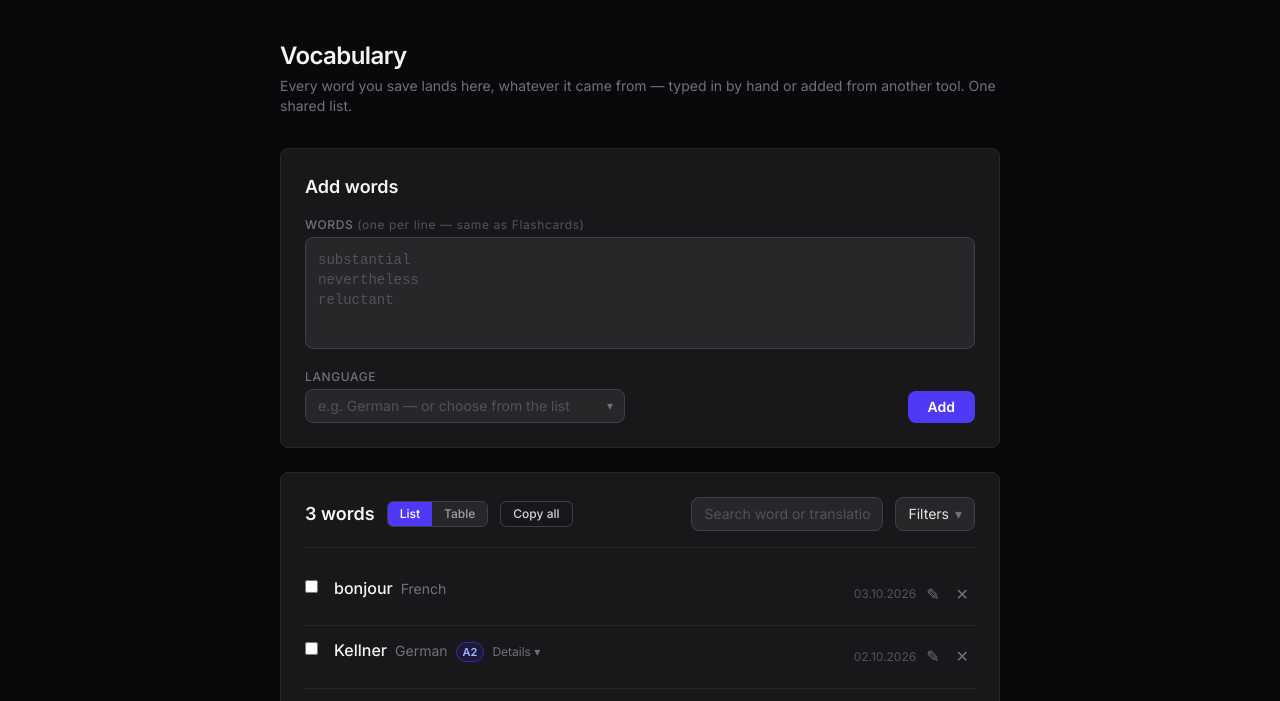
Scenario: deleting several words at once › keeps the selection when it fails, and says so in the window
The image size is (1280, 701).
Click the checkbox titled "Select" next to "bonjour": (312, 586) x1=305 y1=580 x2=318 y2=593
(page scrolled)
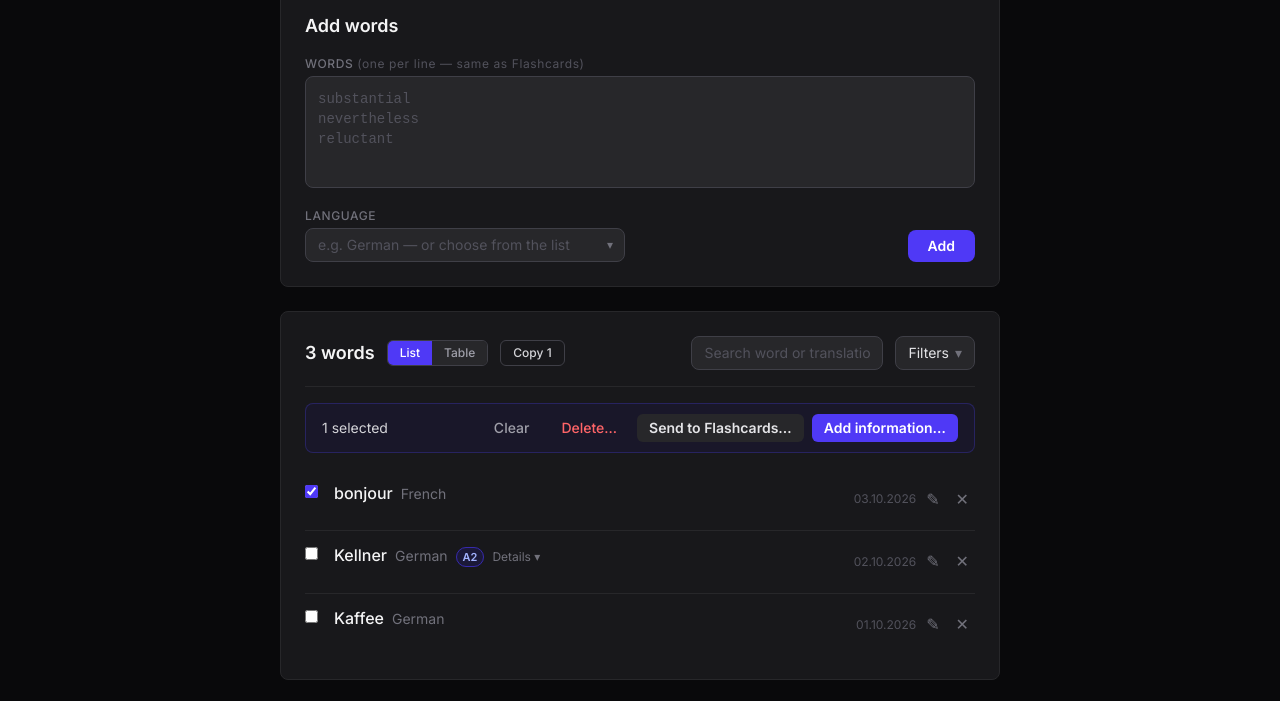
Click the checkbox titled "Select" next to "Kellner": (312, 554) x1=305 y1=547 x2=318 y2=560
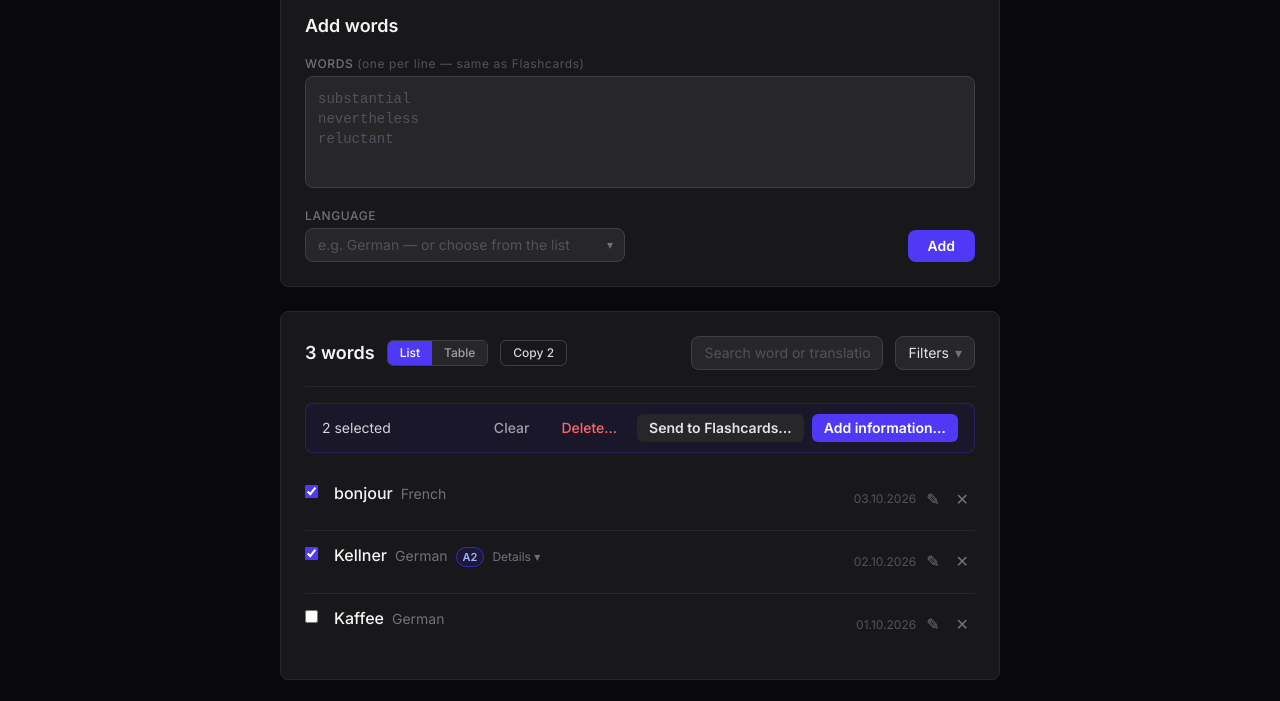
Click the button "Delete…": (589, 428) x1=549 y1=414 x2=629 y2=442
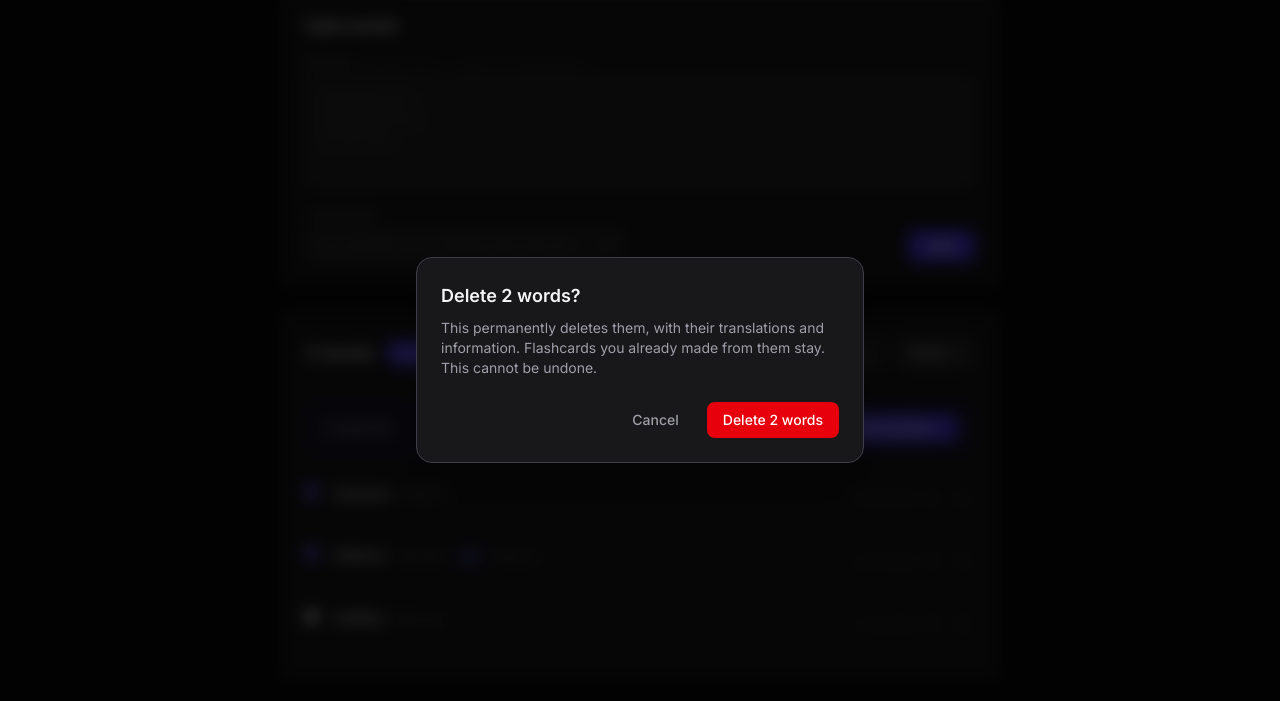
Click the button "Delete 2 words": (773, 420) x1=707 y1=402 x2=839 y2=438
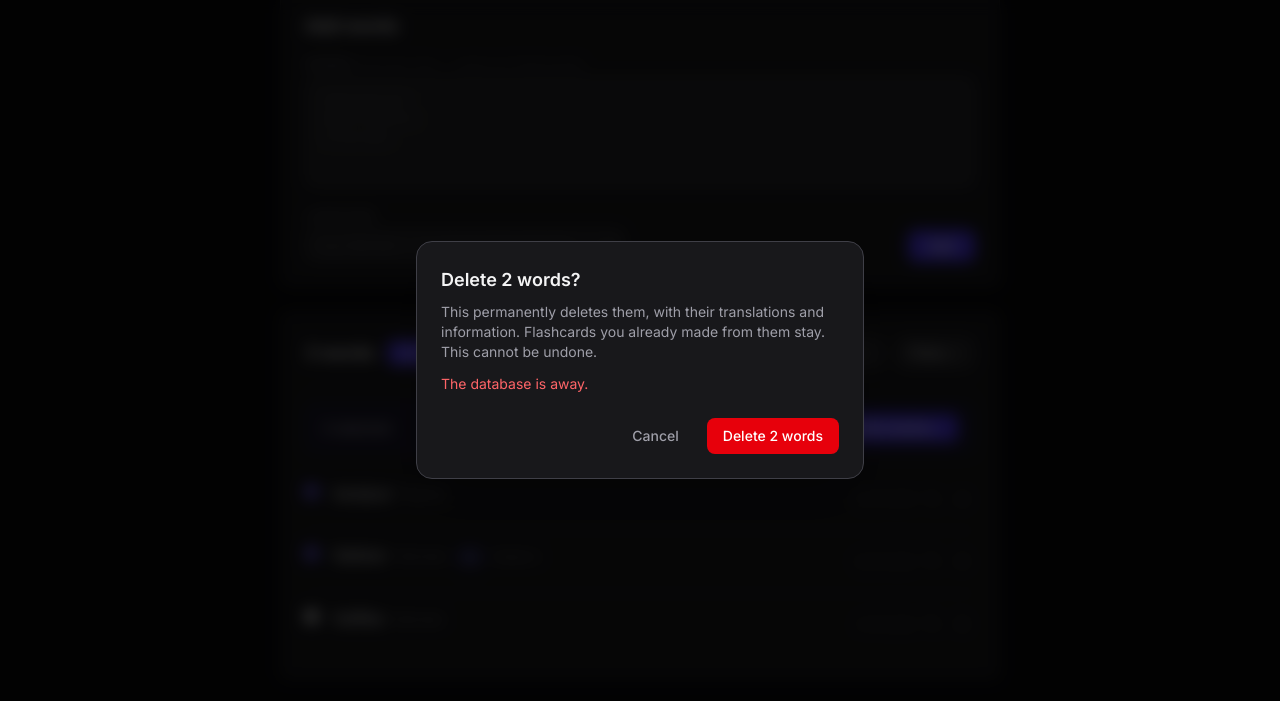
Result: the text "The database is away." is shown at x1=441 y1=375 x2=588 y2=392
